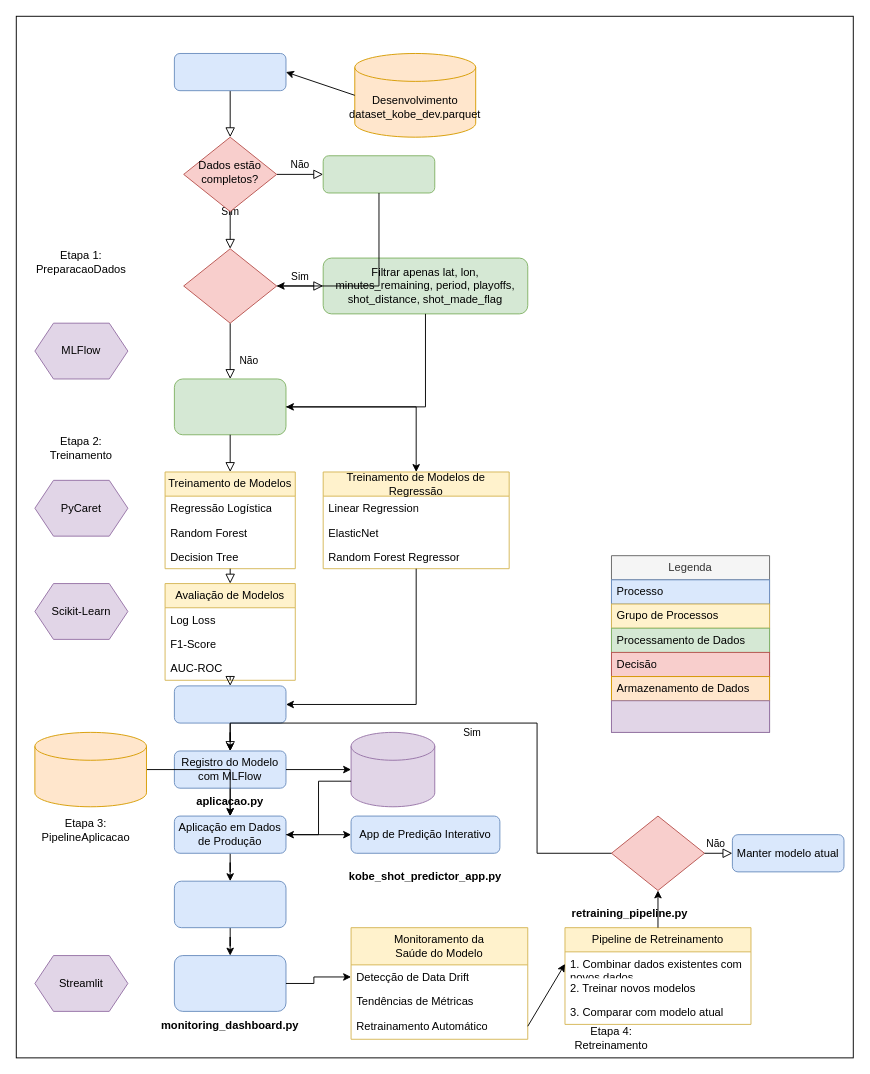
This 870x1074 diagram has some shape labels left out. The shapes that lost their labels are listed below. From the top down, each one's centre as x and y in pixels, then its label:
At pixel 229 72: "Aquisição de Dados".
At pixel 378 174: "Tratar dados faltantes (remover linhas)".
At pixel 230 285: "Todas colunas necessárias?".
At pixel 229 406: "Divisão Estratificada de Dados (80% Treino / 20% Teste)".
At pixel 229 704: "Seleção do Melhor Modelo".
At pixel 690 716: "Tecnologia".
At pixel 90 769: "Produção dataset_kobe_prod.parquet".
At pixel 392 769: "MLFlow Registry".
At pixel 657 852: "Modelo novo é melhor?".
At pixel 229 904: "Avaliação em Produção (log_loss, f1_score)".
At pixel 229 983: "Dashboard de Monitoramento (Streamlit)".
